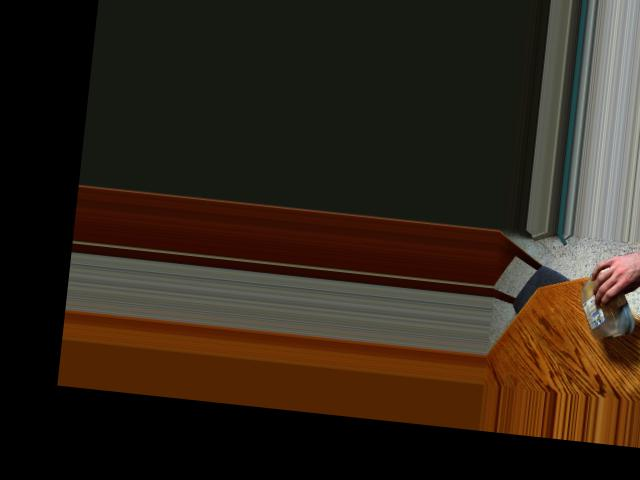cheese: (584, 275, 633, 338)
